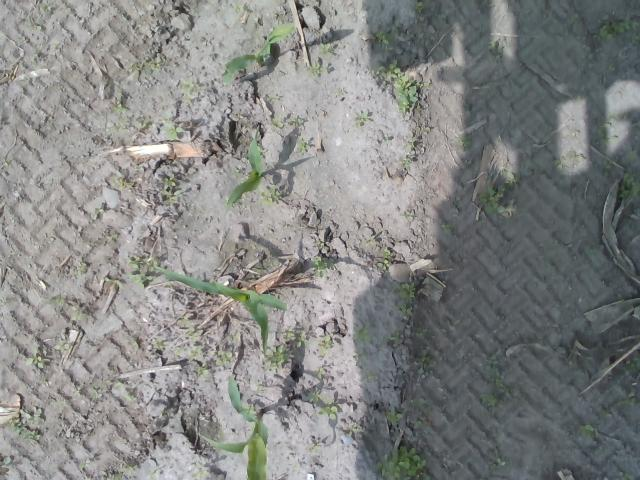Maize: (152, 266, 290, 354), (195, 374, 268, 480), (223, 23, 296, 83), (224, 126, 264, 208)
Weeds: (370, 62, 431, 116), (476, 350, 526, 414), (372, 445, 432, 480), (478, 171, 520, 220), (9, 406, 45, 444), (597, 15, 640, 41), (124, 260, 161, 287), (307, 388, 338, 420), (596, 111, 618, 145), (114, 114, 152, 132), (265, 344, 291, 370), (619, 172, 640, 204), (162, 175, 184, 205), (414, 348, 434, 377), (399, 282, 416, 316), (162, 118, 185, 141), (178, 315, 198, 341), (260, 184, 282, 206), (377, 246, 396, 271), (553, 154, 584, 169), (26, 350, 48, 371), (312, 256, 333, 278), (402, 138, 416, 170), (270, 117, 304, 130), (115, 382, 137, 402), (283, 329, 306, 348), (178, 78, 194, 104), (317, 336, 333, 358), (373, 29, 393, 46), (578, 423, 598, 440), (352, 110, 370, 128), (190, 464, 210, 480), (175, 346, 201, 358), (306, 62, 328, 76), (614, 394, 639, 406), (216, 349, 233, 366), (456, 134, 474, 150), (114, 92, 128, 112), (625, 355, 640, 373), (317, 40, 333, 56), (490, 456, 507, 471), (114, 177, 134, 189), (144, 63, 161, 77), (343, 425, 360, 439), (384, 330, 400, 344), (296, 138, 310, 153), (355, 328, 369, 343), (413, 399, 433, 409), (100, 471, 122, 480), (386, 411, 400, 425), (440, 222, 456, 234), (54, 342, 72, 352), (602, 159, 612, 177), (618, 470, 636, 480), (414, 0, 426, 14), (195, 366, 210, 377), (313, 366, 325, 378), (401, 211, 415, 221), (51, 296, 64, 306), (122, 462, 138, 470), (154, 338, 164, 350), (231, 3, 244, 12), (132, 336, 140, 350), (0, 456, 11, 466), (487, 40, 497, 50), (412, 419, 422, 429), (72, 311, 84, 319), (232, 168, 244, 176), (382, 136, 392, 145), (270, 94, 280, 102), (80, 462, 90, 470), (607, 63, 615, 72)
